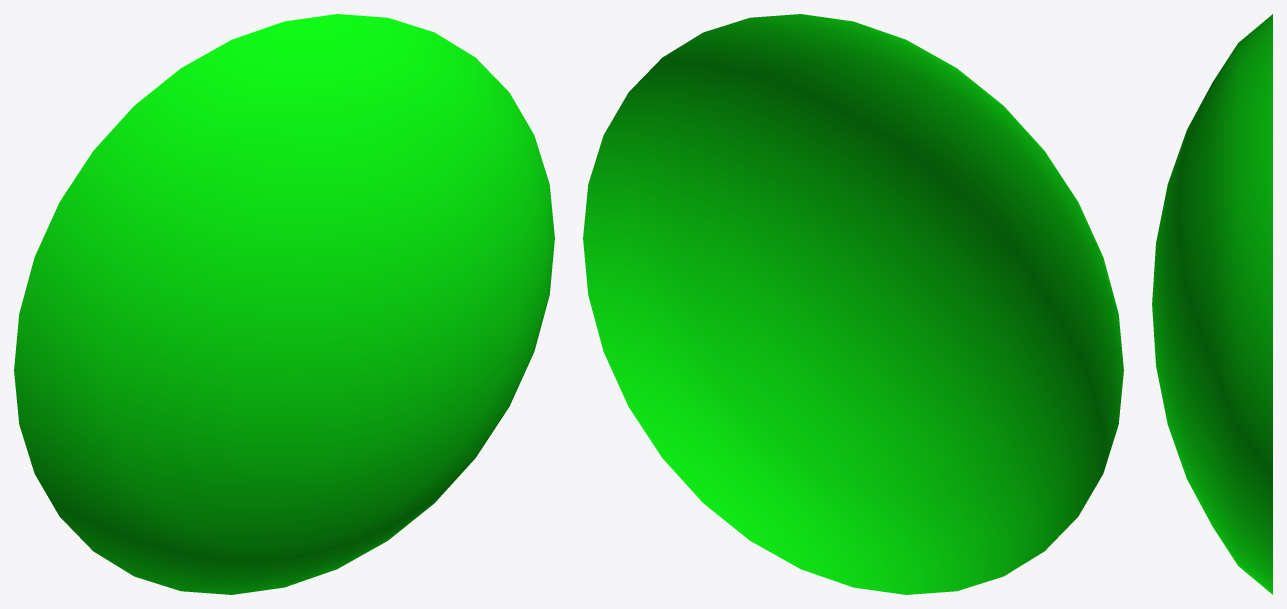
Rendered from greenon.glb.
3 renders of one model, left to right at view 1: azimuth 30°, elevation 25°; view 2: azimuth 150°, elevation 25°; view 3: azimuth 270°, elevation 25°, orthographic. The views are drawn at different scales.
Visible parts, largest first — view 1: Sphere.005; view 2: Sphere.005; view 3: Sphere.005.
Boxes of the visible parts, box(x1,y1,x2,y2) form: Sphere.005: box(14, 14, 554, 594); Sphere.005: box(583, 14, 1123, 594); Sphere.005: box(1152, 14, 1272, 594).
Bounding box in the file's own units: 0.2432 × 0.2432 × 0.0506.
